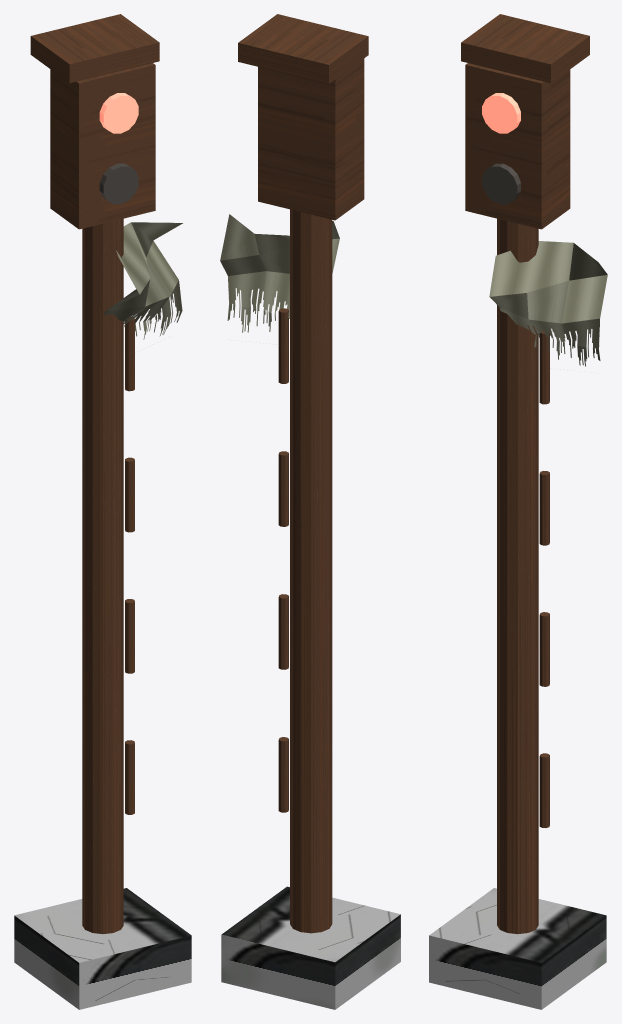
Rendered from duong-ray-cot-tin-hieu-gi.glb.
The picture shows the model from 3 angles, left to right: view 1: azimuth 30°, elevation 25°; view 2: azimuth 150°, elevation 25°; view 3: azimuth 330°, elevation 25°; orthographic projection.
Parts seen in each view (by area): view 1: duong-ray-cot-tin-hieu-gi; view 2: duong-ray-cot-tin-hieu-gi; view 3: duong-ray-cot-tin-hieu-gi.
Part boxes in pixels (left/top/right/bottom): duong-ray-cot-tin-hieu-gi: left=14, top=14, right=191, bottom=1009; duong-ray-cot-tin-hieu-gi: left=220, top=14, right=400, bottom=1009; duong-ray-cot-tin-hieu-gi: left=429, top=14, right=607, bottom=1009.
Size of the model in its own units: 0.6093 by 3.94 by 0.5008.
Materials: 5 (3 with a texture image).
